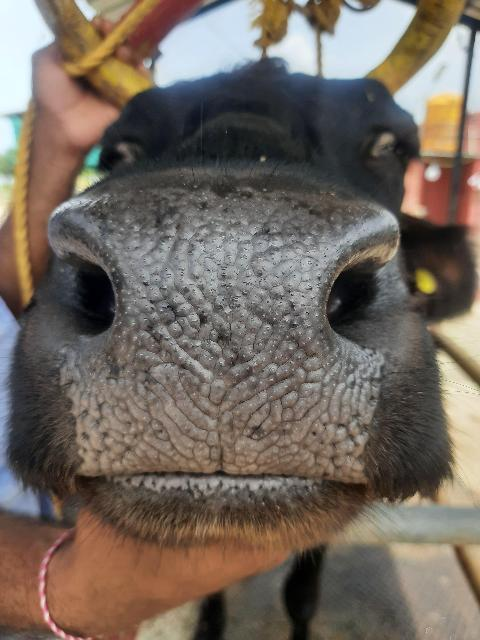Muzzle: (118, 208, 314, 472)
